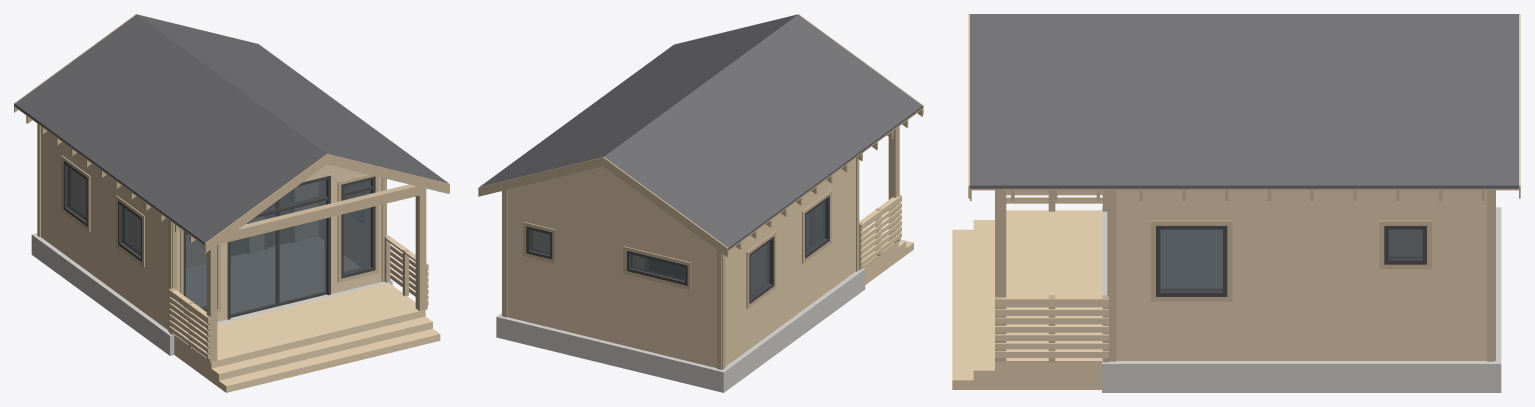
Rendered from cabin-1br-terrace-5x7_3d.glb.
3 views of the same model, side by side, from view 1: azimuth 30°, elevation 25°; view 2: azimuth 150°, elevation 25°; view 3: azimuth 270°, elevation 25° (orthographic). The views are drawn at different scales.
Parts seen in each view (by area): view 1: roof_tiles, wood, trim, glass, slab, frame, wood_in, rafters, door; view 2: roof_tiles, wood, slab, trim, glass, frame, wood_in, rafters; view 3: roof_tiles, wood, slab, trim, glass, frame, sheathing, wood_in, rafters.
Boxes of the visible parts, x1,y1,x2,y2 form: roof_tiles: [14, 14, 448, 244]; wood: [41, 126, 440, 392]; trim: [14, 14, 449, 362]; glass: [67, 166, 370, 314]; slab: [31, 233, 392, 355]; frame: [63, 160, 375, 319]; wood_in: [125, 182, 317, 267]; rafters: [26, 116, 449, 253]; door: [231, 192, 290, 255]; roof_tiles: [480, 14, 922, 249]; wood: [507, 158, 913, 367]; slab: [496, 268, 865, 392]; trim: [478, 14, 923, 369]; glass: [530, 201, 825, 297]; frame: [526, 195, 829, 303]; wood_in: [633, 246, 765, 293]; rafters: [735, 109, 922, 249]; roof_tiles: [970, 14, 1518, 188]; wood: [952, 190, 1486, 389]; slab: [1102, 207, 1501, 392]; trim: [968, 14, 1520, 362]; glass: [1160, 229, 1422, 290]; frame: [1156, 226, 1426, 296]; sheathing: [970, 188, 1518, 190]; wood_in: [1389, 230, 1421, 255]; rafters: [970, 190, 1484, 200].
Size of the model in its own units: 5.7 by 4.65 by 7.98.
